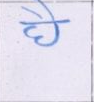o_matra: (48, 4, 61, 44)
